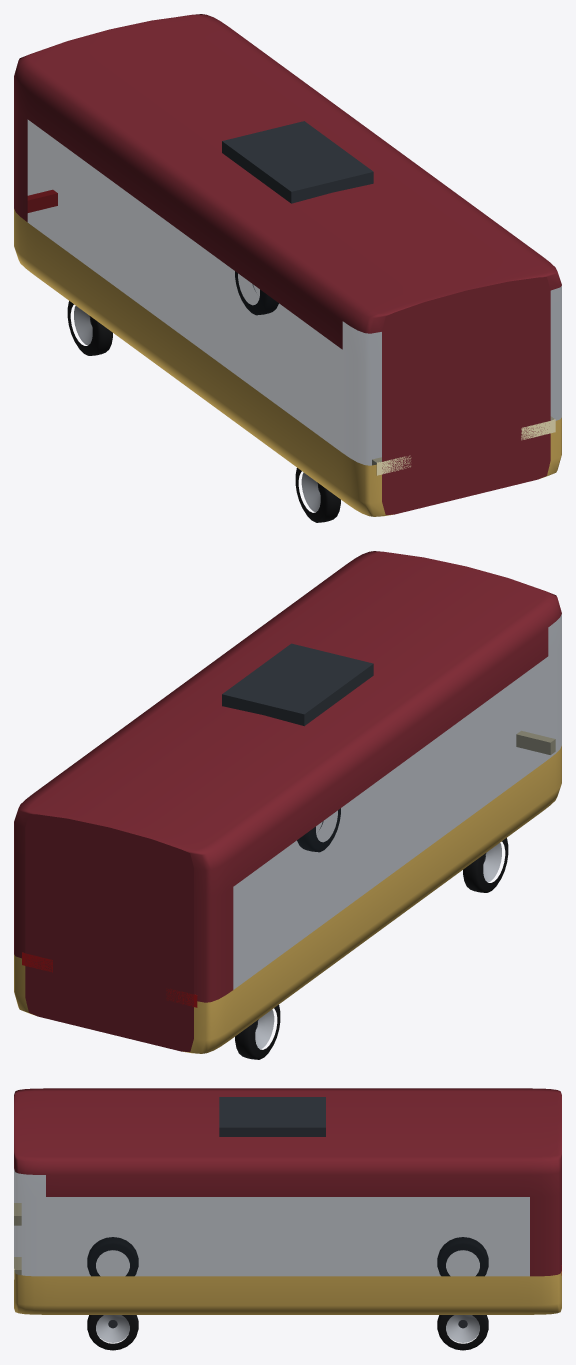
Rendered from desktop.glb.
The picture shows the model from 3 angles, top to bottom: view 1: azimuth 30°, elevation 25°; view 2: azimuth 150°, elevation 25°; view 3: azimuth 270°, elevation 25°; orthographic projection. The views are drawn at different scales.
Parts seen in each view (by area): view 1: body, glass, tyre_fr, tyre_rr; view 2: body, glass, tyre_rr, tyre_fr, light_head_r; view 3: body, glass, tyre_fr, tyre_rr, tyre_fl, tyre_rl, rim_fl, rim_rl.
Part boxes in pixels (x1=…): body: x1=14, y1=14, x2=561, y2=516; glass: x1=27, y1=120, x2=561, y2=465; tyre_fr: x1=295, y1=468, x2=340, y2=522; tyre_rr: x1=67, y1=301, x2=112, y2=355; body: x1=14, y1=551, x2=561, y2=1053; glass: x1=233, y1=614, x2=561, y2=989; tyre_rr: x1=235, y1=1005, x2=280, y2=1059; tyre_fr: x1=463, y1=838, x2=508, y2=892; light_head_r: x1=516, y1=731, x2=555, y2=754; body: x1=14, y1=1088, x2=561, y2=1314; glass: x1=14, y1=1169, x2=529, y2=1276; tyre_fr: x1=87, y1=1237, x2=138, y2=1276; tyre_rr: x1=437, y1=1237, x2=488, y2=1276; tyre_fl: x1=87, y1=1315, x2=138, y2=1350; tyre_rl: x1=437, y1=1315, x2=488, y2=1350; rim_fl: x1=96, y1=1315, x2=129, y2=1342; rim_rl: x1=446, y1=1315, x2=479, y2=1342.
Size of what is drawn, in the model's own units: 2.4 by 2.97 by 7.2.
